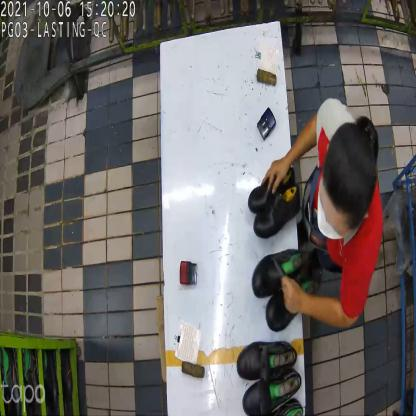shoes: (250, 251, 312, 333), (236, 342, 304, 416), (245, 162, 304, 236)
stamp: (257, 106, 276, 141), (179, 258, 197, 288)
